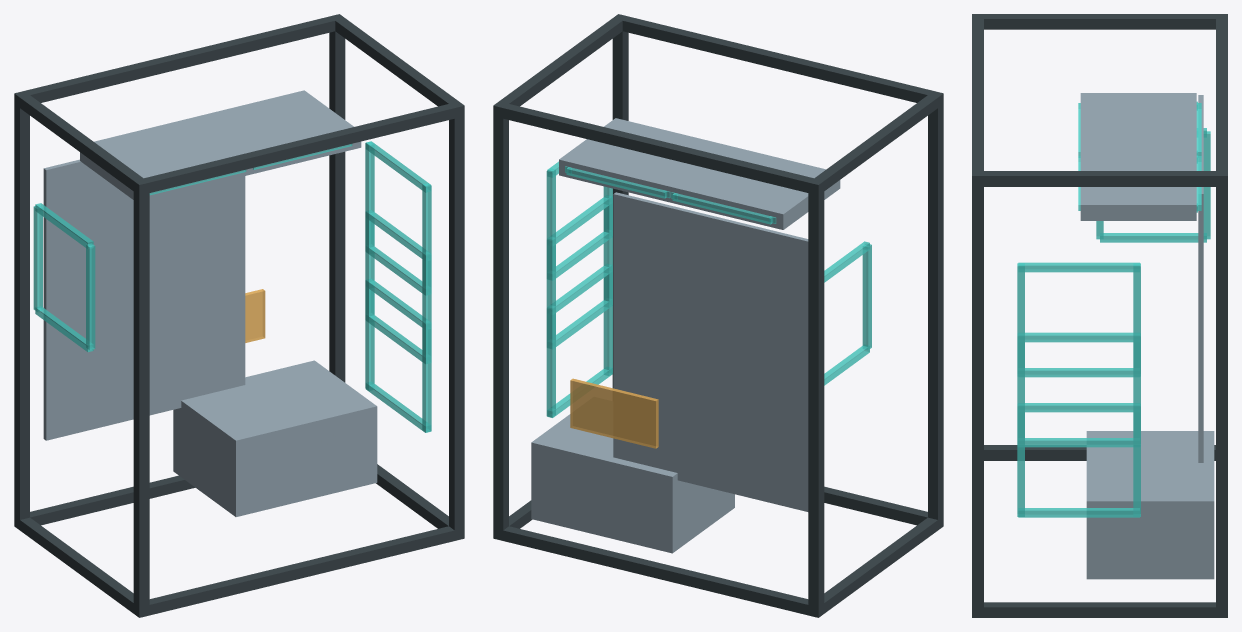
3 renders of one model, left to right at view 1: azimuth 30°, elevation 25°; view 2: azimuth 150°, elevation 25°; view 3: azimuth 270°, elevation 25°, orthographic. The views are drawn at different scales.
Visible parts, largest first — view 1: motherboard tray visual plane, psu bay transparent volume, top radiator transparent volume, corner post -1.25:0.82, corner post 1.25:0.82, corner post -1.25:-0.82, horizontal x rail 1.6:0.82, horizontal x rail -1.6:0.82, horizontal x rail 1.6:-0.82, corner post 1.25:-0.82, horizontal z rail -1.25:1.6, horizontal z rail -1.25:-1.6 (+20 smaller); view 2: motherboard tray visual plane, psu bay transparent volume, top radiator transparent volume, corner post -1.25:-0.82, corner post 1.25:-0.82, corner post -1.25:0.82, horizontal x rail 1.6:-0.82, horizontal x rail -1.6:-0.82, horizontal x rail 1.6:0.82, rear expansion slot marker, horizontal z rail -1.25:1.6, horizontal z rail -1.25:-1.6 (+15 smaller); view 3: psu bay transparent volume, top radiator transparent volume, corner post 1.25:-0.82, corner post 1.25:0.82, horizontal z rail 1.25:1.6, horizontal z rail -1.25:1.6, horizontal z rail 1.25:-1.6, horizontal x rail 1.6:0.82, horizontal x rail 1.6:-0.82, motherboard tray visual plane, horizontal z rail -1.25:-1.6, front fan 1 top rail (+13 smaller).
Boxes of the visible parts, x1,y1,x2,y2 form: motherboard tray visual plane: (43,159,245,440); psu bay transparent volume: (173,360,377,516); top radiator transparent volume: (80,90,361,199); corner post -1.25:0.82: (133,186,149,612); corner post 1.25:0.82: (449,111,464,530); corner post -1.25:-0.82: (14,99,29,524); horizontal x rail 1.6:0.82: (133,101,464,193); horizontal x rail -1.6:0.82: (133,526,464,617); horizontal x rail 1.6:-0.82: (14,14,344,106); corner post 1.25:-0.82: (329,31,345,382); horizontal z rail -1.25:1.6: (14,91,148,191); horizontal z rail -1.25:-1.6: (14,516,141,617); motherboard tray visual plane: (613,192,808,511); psu bay transparent volume: (531,414,734,553); top radiator transparent volume: (559,118,840,229); corner post -1.25:-0.82: (808,187,824,612); corner post 1.25:-0.82: (493,111,508,530); corner post -1.25:0.82: (928,99,943,519); horizontal x rail 1.6:-0.82: (493,101,823,194); horizontal x rail -1.6:-0.82: (493,526,820,617); horizontal x rail 1.6:0.82: (613,14,943,102); rear expansion slot marker: (570,378,658,448); horizontal z rail -1.25:1.6: (808,91,943,192); horizontal z rail -1.25:-1.6: (808,516,943,617); psu bay transparent volume: (1086,431,1214,579); top radiator transparent volume: (1080,93,1196,220); corner post 1.25:-0.82: (1216,181,1227,612); corner post 1.25:0.82: (972,181,983,612); horizontal z rail 1.25:1.6: (972,171,1227,186); horizontal z rail -1.25:1.6: (972,14,1227,29); horizontal z rail 1.25:-1.6: (972,602,1227,617); horizontal x rail 1.6:0.82: (972,14,983,186); horizontal x rail 1.6:-0.82: (1216,14,1227,186); motherboard tray visual plane: (1198,95,1203,462); horizontal z rail -1.25:-1.6: (984,445,1215,460); front fan 1 top rail: (1018,262,1139,272).
Bounding box in the file's own units: 2.58 × 3.28 × 1.72.
